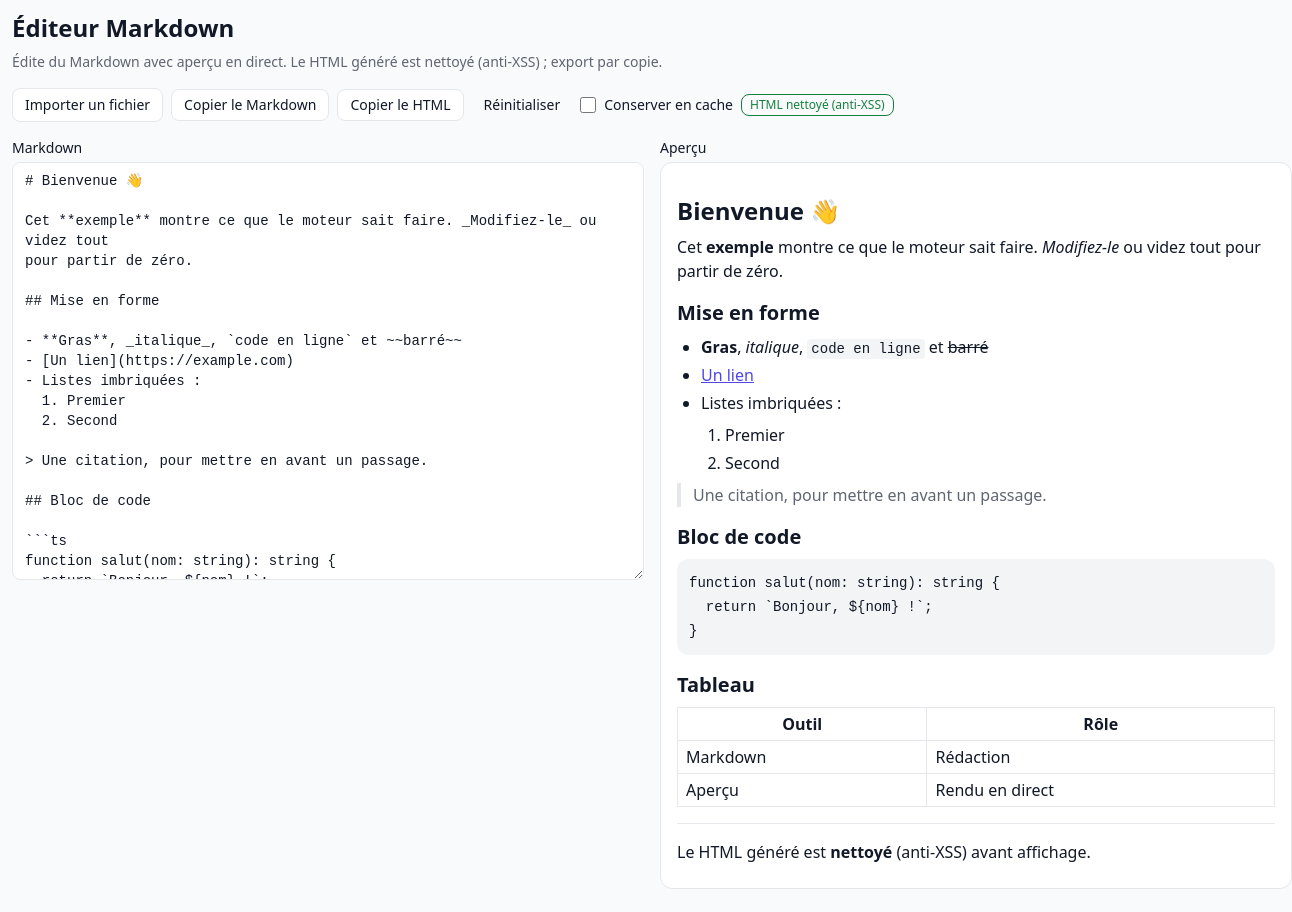
Test case: MarkdownEditorPage › rend l’éditeur et l’aperçu live
This screenshot has width=1292, height=912.
expect the heading "Éditeur Markdown" is shown: met, box [12,11,234,44]
Replace the text in the text box with "# Titre": (328, 371) [12,162,644,580]
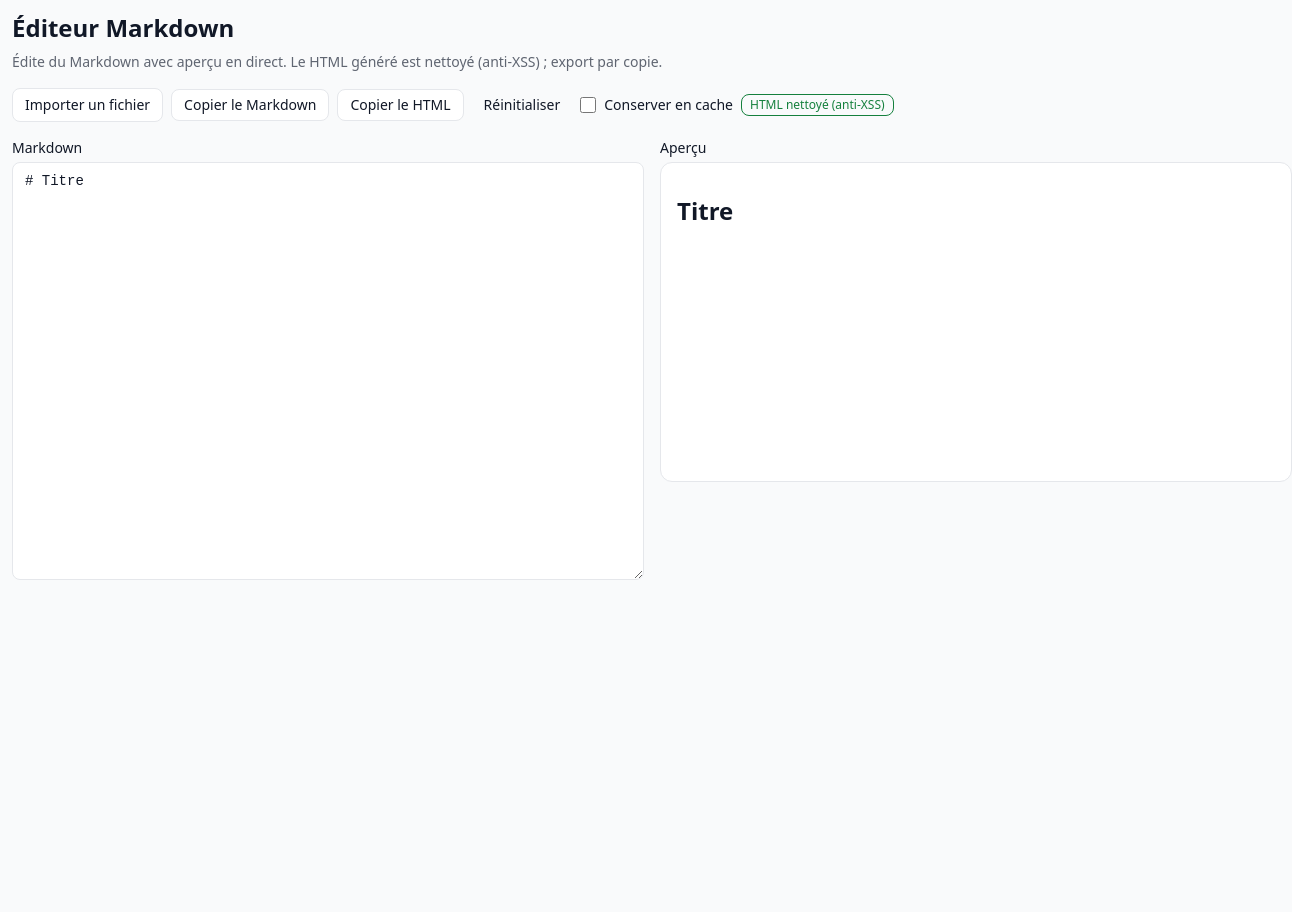
expect the heading "Titre" is shown: met, box [677,194,733,227]
